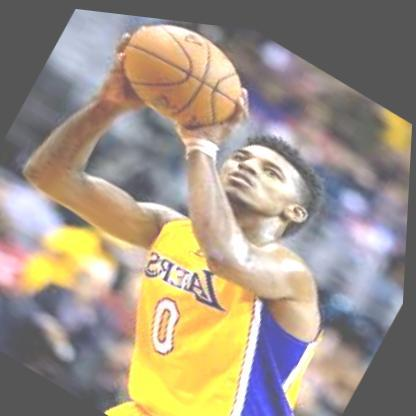basketball: (104, 10, 258, 144)
